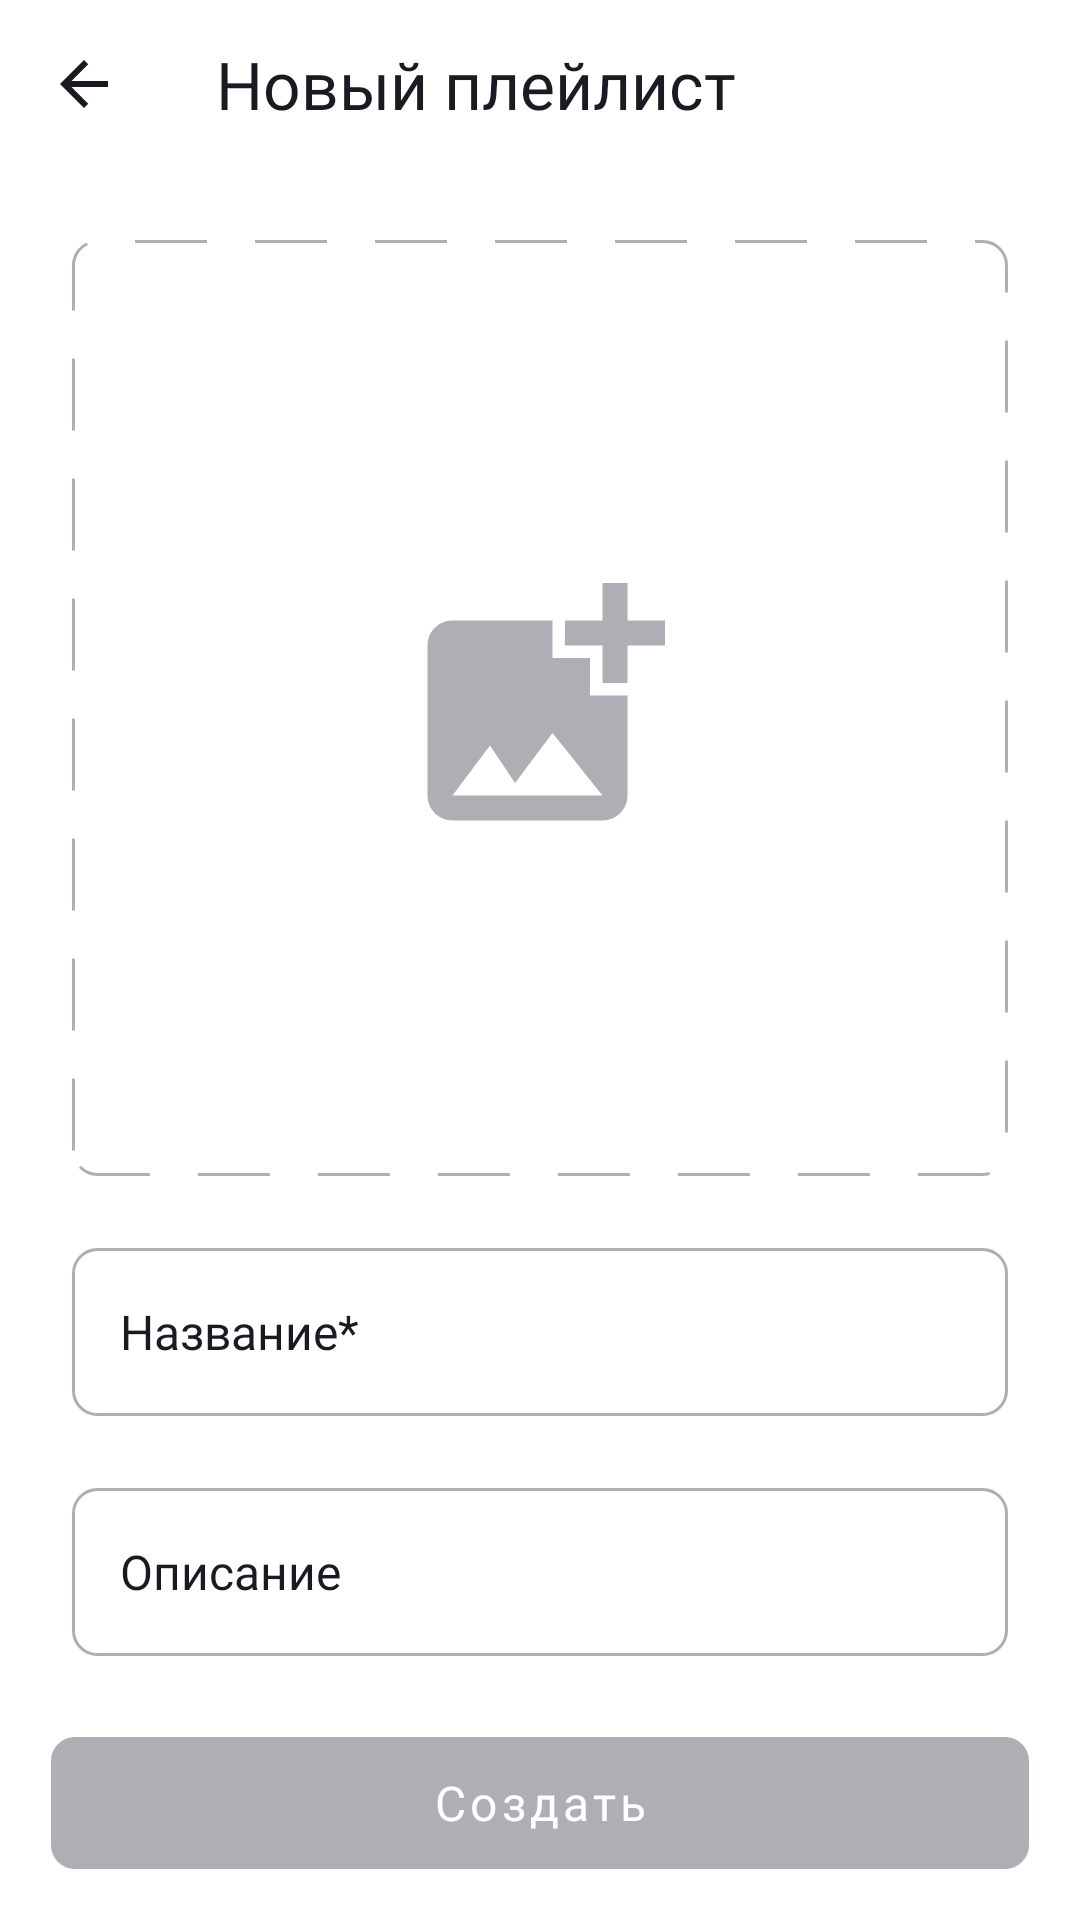

Icons on this 1080x1920 Android screen, each with its box as (x1, y1, x2, y2):
add photo: (427, 583, 665, 821)
